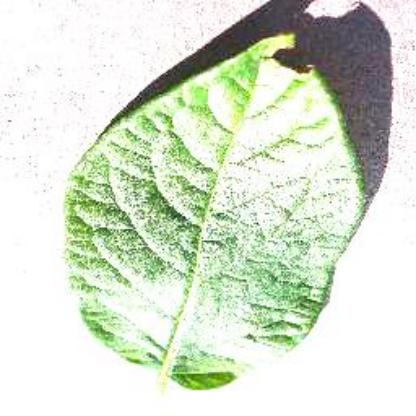Healthy-plant: (43, 29, 373, 398)
